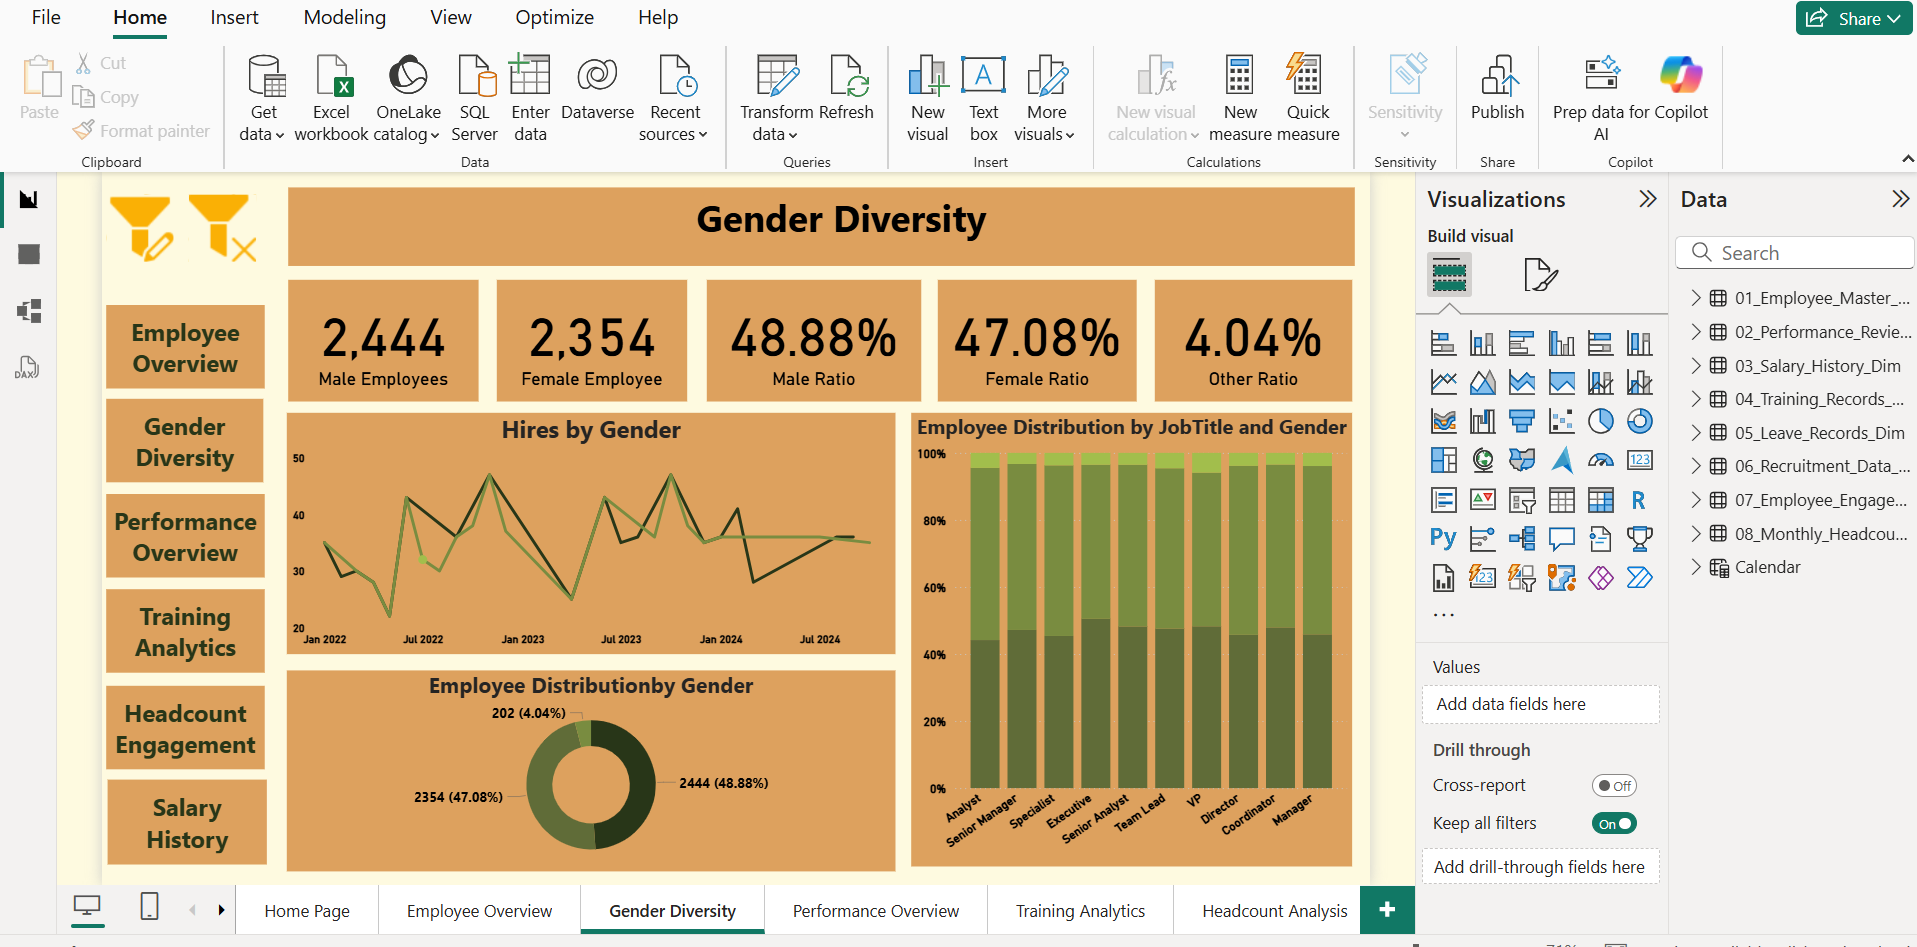

This screenshot's page, from the dashboard's own definition file:
{"tool":"powerbi","page":{"name":"Gender Diversity","canvas":[1280,720],"ordinal":2},"visuals":[{"type":"actionButton","box":[3.5,134.8,159.7,84.4],"z":0,"group":"g1"},{"type":"hundredPercentStackedColumnChart","title":"Employee Distribution by JobTitle and Gender","fields":{"Category":["employee data.JobTitle"],"Series":["employee data.Gender"],"Y":["employee data.Employee Count"]},"box":[816.7,243,445.1,457.8],"z":0},{"type":"textbox","box":[187.9,15.5,1076.6,79.1],"z":1000},{"type":"actionButton","box":[3.5,229.4,158.3,84.4],"z":1000,"group":"g1"},{"type":"donutChart","title":"Employee Distributionby Gender","fields":{"Y":["01_Employee_Master_Fact.Employee Count"],"Category":["employee data.Gender"]},"box":[186.1,502.5,614.1,203],"z":2000},{"type":"actionButton","box":[3.5,518.9,159.7,84.4],"z":2000,"group":"g1"},{"type":"card","fields":{"Values":["01_Employee_Master_Fact.Male Employees"]},"box":[187.9,108.8,192.2,122.9],"z":3000},{"type":"actionButton","box":[3.5,421.4,159.7,84.4],"z":3000,"group":"g1"},{"type":"card","fields":{"Values":["02_Performance_Reviews_Dim.Female Employee"]},"box":[398.4,108.8,192.2,122.9],"z":4000},{"type":"actionButton","box":[3.5,325.4,159.7,84.4],"z":4000,"group":"g1"},{"type":"card","fields":{"Values":["02_Performance_Reviews_Dim.Male Ratio"]},"box":[610.4,108.8,216.2,122.9],"z":5000},{"type":"actionButton","box":[4.3,613.3,160.5,85.4],"z":5000,"group":"g1"},{"type":"card","fields":{"Values":["02_Performance_Reviews_Dim.Other Ratio"]},"box":[1062.5,108.8,199.2,122.9],"z":6000},{"type":"card","fields":{"Values":["02_Performance_Reviews_Dim.Female Ratio"]},"box":[843.5,108.8,200.6,122.9],"z":7000},{"type":"lineChart","title":"Hires by Gender","fields":{"Category":["01_Employee_Master_Fact.HireDate"],"Y":["08_Monthly_Headcount_Summary_Dim.Hires"],"Series":["01_Employee_Master_Fact.Gender"]},"box":[186.1,243.6,614.1,243.6],"z":8000},{"type":"group","id":"g1","title":"Menu Buttons","box":[3.5,134.8,161.4,563.9],"z":9000},{"type":"actionButton","box":[0,18.4,79.1,76.3],"z":10000},{"type":"actionButton","box":[83.3,17.7,79.8,76.2],"z":11000}]}

Visuals, with their boxes on the page's 1280x720 design canvas (x1, y1, x2, y2). These are canvas units, not pixel positions in the 1917x947 screenshot, which may show the page scaled, cropped or inside an application window:
actionButton: <region>4, 135, 163, 219</region>
"Employee Distribution by JobTitle and Gender" hundredPercentStackedColumnChart: <region>817, 243, 1262, 701</region>
textbox: <region>188, 16, 1264, 95</region>
actionButton: <region>4, 229, 162, 314</region>
"Employee Distributionby Gender" donutChart: <region>186, 502, 800, 706</region>
actionButton: <region>4, 519, 163, 603</region>
card - 01_Employee_Master_Fact.Male Employees: <region>188, 109, 380, 232</region>
actionButton: <region>4, 421, 163, 506</region>
card - 02_Performance_Reviews_Dim.Female Employee: <region>398, 109, 591, 232</region>
actionButton: <region>4, 325, 163, 410</region>
card - 02_Performance_Reviews_Dim.Male Ratio: <region>610, 109, 827, 232</region>
actionButton: <region>4, 613, 165, 699</region>
card - 02_Performance_Reviews_Dim.Other Ratio: <region>1062, 109, 1262, 232</region>
card - 02_Performance_Reviews_Dim.Female Ratio: <region>844, 109, 1044, 232</region>
"Hires by Gender" lineChart: <region>186, 244, 800, 487</region>
"Menu Buttons" group: <region>4, 135, 165, 699</region>
actionButton: <region>0, 18, 79, 95</region>
actionButton: <region>83, 18, 163, 94</region>
